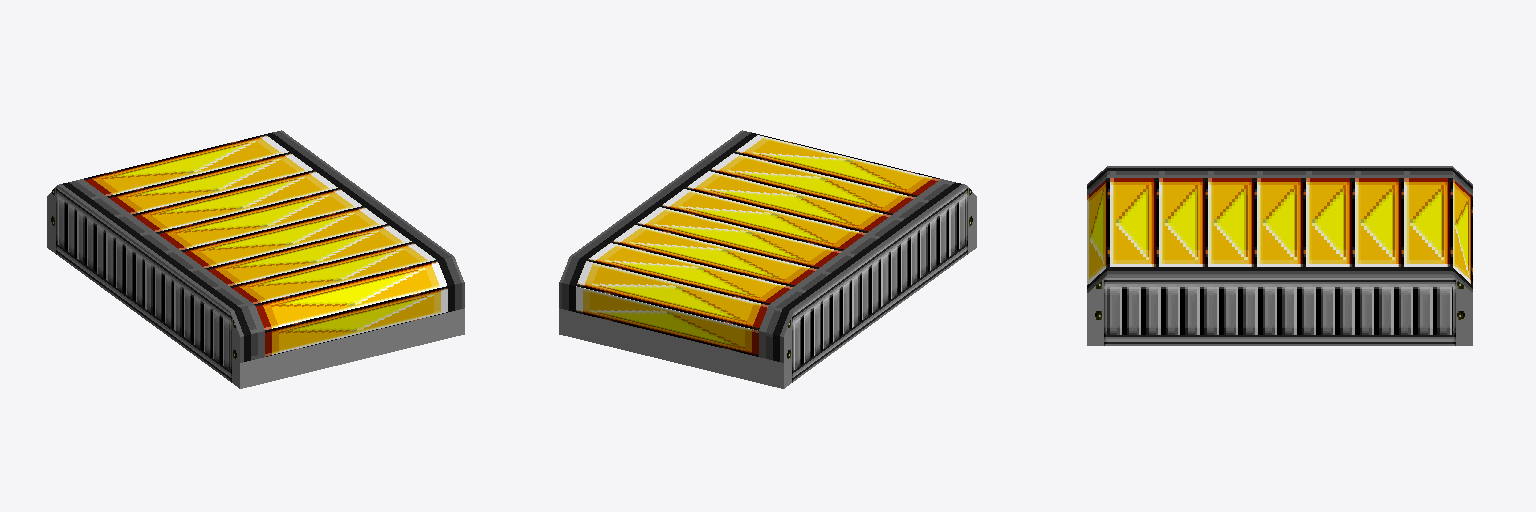
3 renders of one model, left to right at view 1: azimuth 30°, elevation 25°; view 2: azimuth 150°, elevation 25°; view 3: azimuth 270°, elevation 25°, orthographic.
Parts seen in each view (by area): view 1: world_root; view 2: world_root; view 3: world_root.
Boxes of the visible parts, x1,y1,x2,y2 form: world_root: [47, 130, 464, 388]; world_root: [559, 130, 976, 388]; world_root: [1087, 166, 1472, 345].
Size of the model in its own units: 56.25 by 16.92 by 83.84.
Materials: 3 (3 with a texture image).